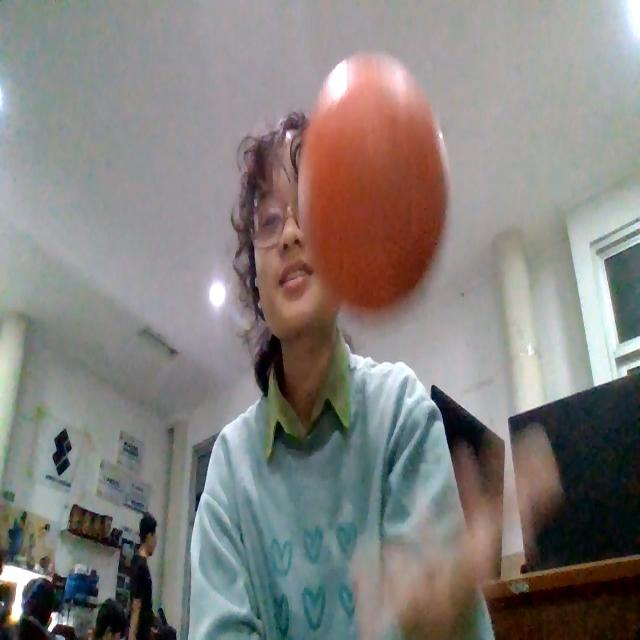ball: (303, 50, 451, 313)
